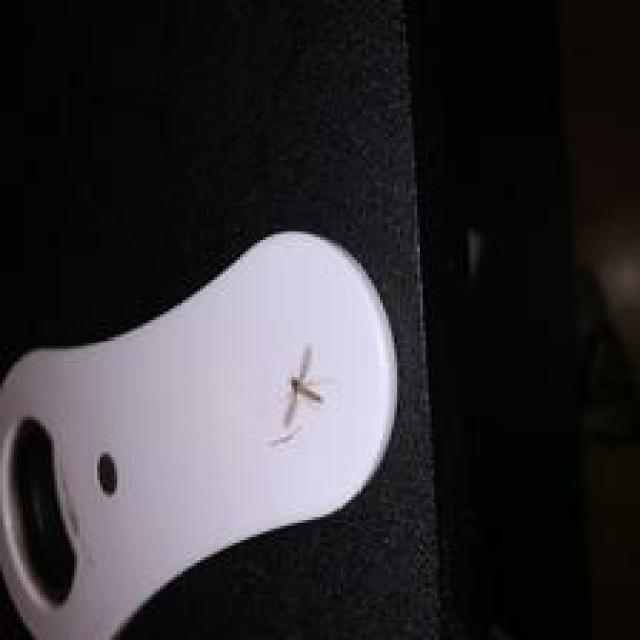Culex: (0, 228, 400, 640)
